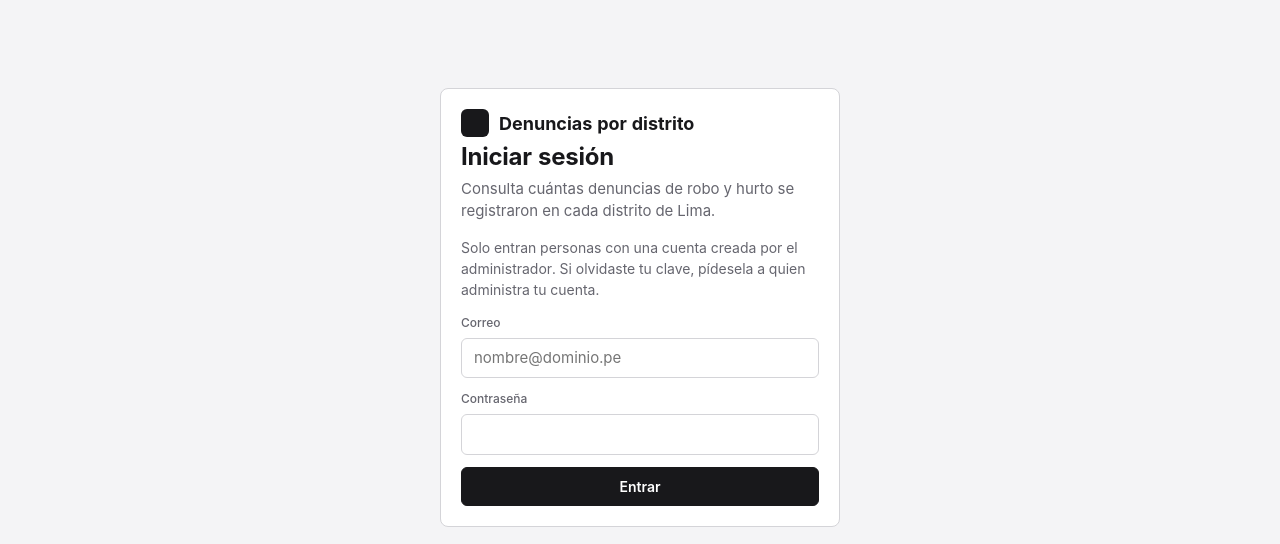
Test: acceso › un Usuario que escribe la dirección de una pantalla del Analista ve una explicación amable
The image size is (1280, 544).
Type "alguien@prueba.pe" into the field labelled "Correo" at (640, 358), box left=461, top=338, right=819, bottom=378
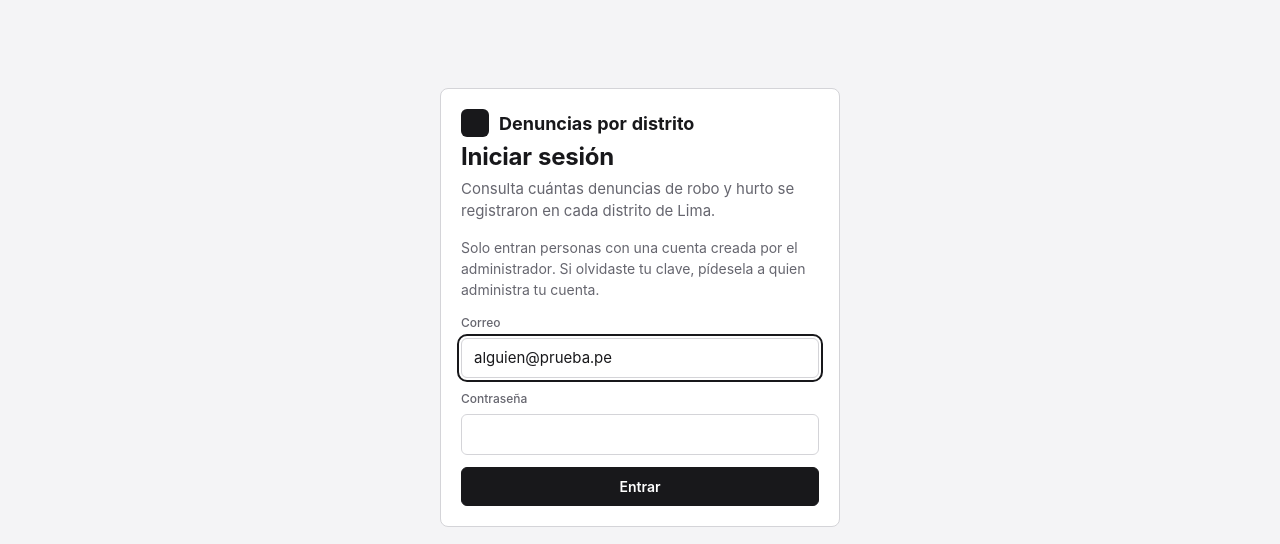
Type "clave-segura-123" into the password field labelled "Contraseña" at (640, 435), box left=461, top=414, right=819, bottom=455
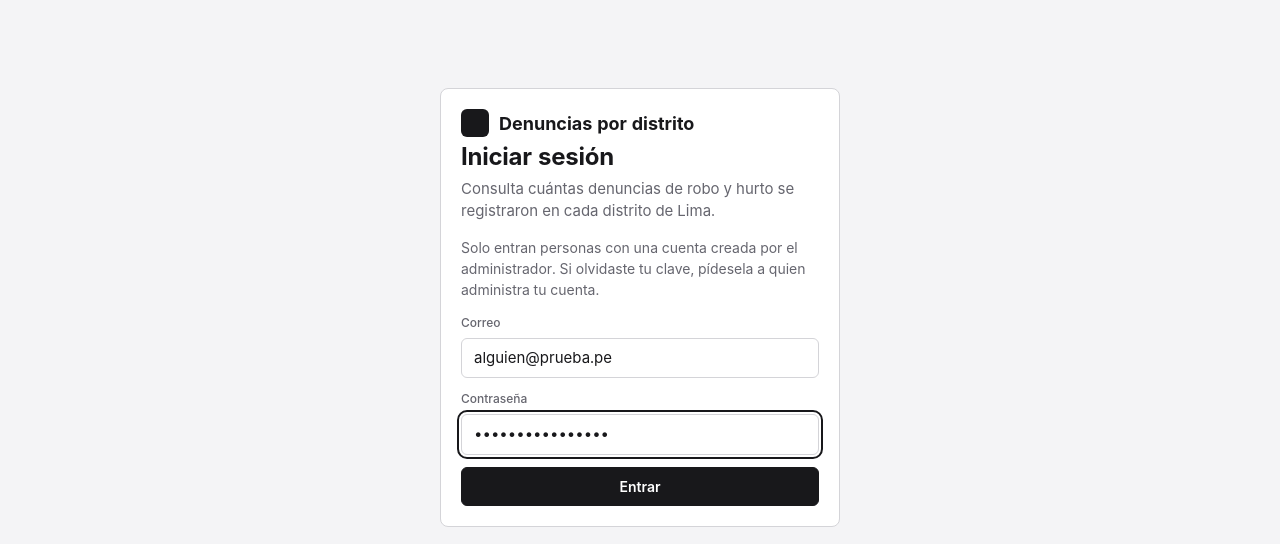
Click the button "Entrar" at (640, 486), box left=461, top=467, right=819, bottom=506
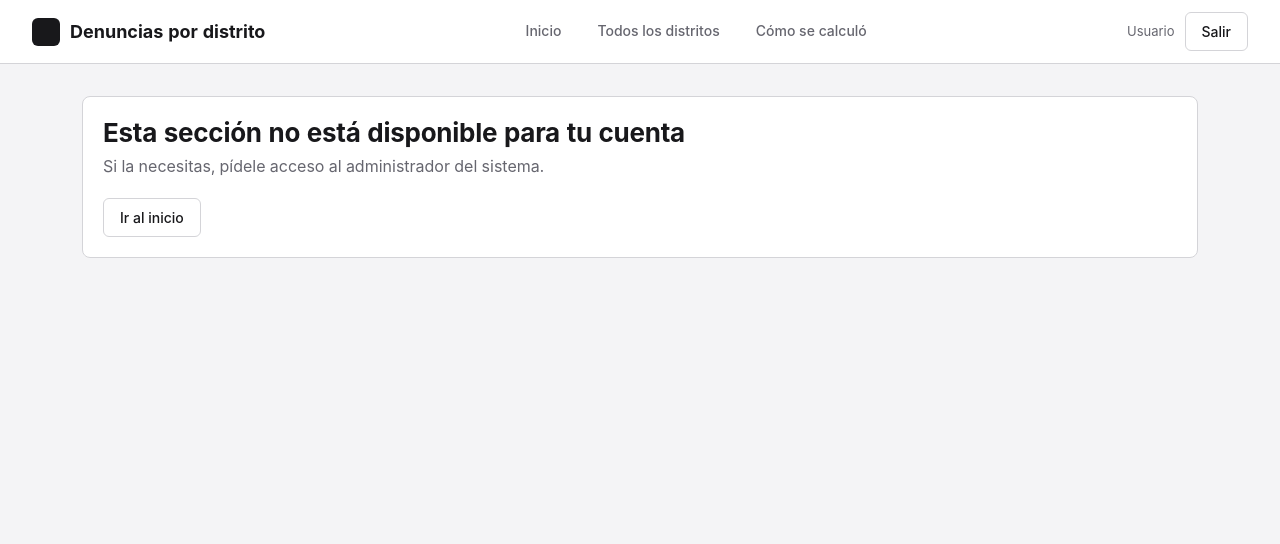
Expected: the heading "Esta sección no está disponible para tu cuenta" is shown, left=103, top=117, right=685, bottom=148
